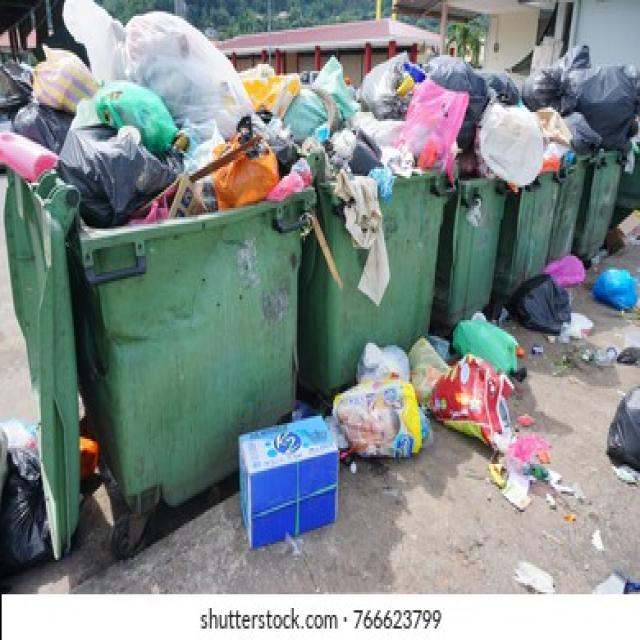trash: (558, 57, 625, 146)
